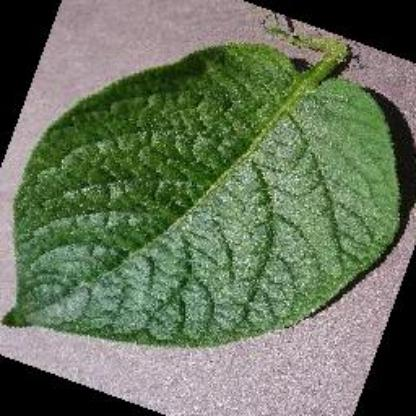Healthy-plant: (0, 46, 404, 346)
